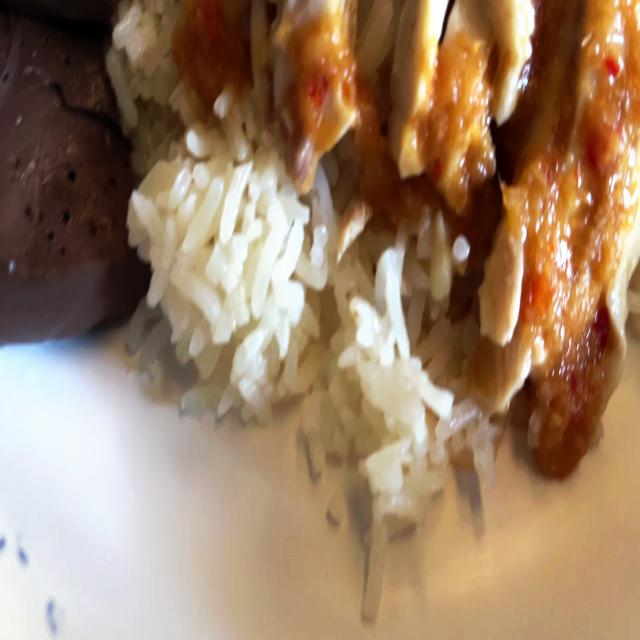boiled_chicken: (184, 0, 640, 374)
boiled_chicken_blood_jelly: (0, 0, 146, 337)
chicken_rice: (1, 3, 640, 573)
